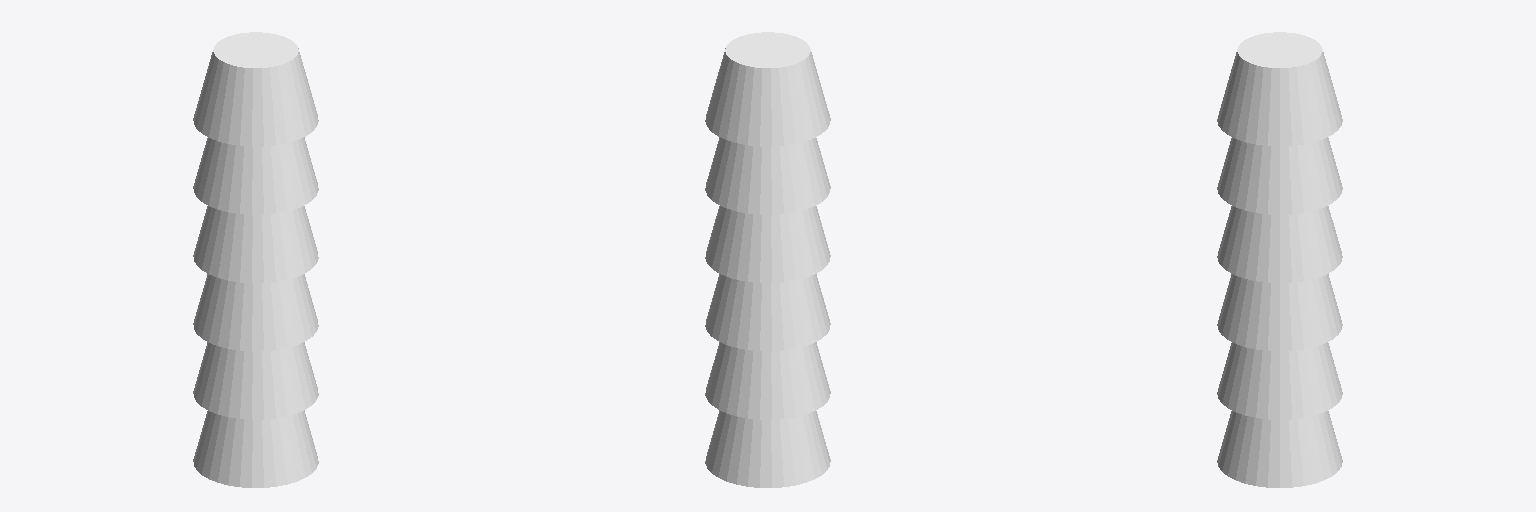
File: stackedlamp.obj
The picture shows the model from 3 angles: view 1: azimuth 30°, elevation 25°; view 2: azimuth 150°, elevation 25°; view 3: azimuth 270°, elevation 25°; orthographic projection.
Visible parts, largest first — view 1: Cylinder.005_Cylinder.008, Cylinder.001_Cylinder.004, Cylinder.002_Cylinder.005, Cylinder.004_Cylinder.007, Cylinder, Cylinder.003_Cylinder.006; view 2: Cylinder.005_Cylinder.008, Cylinder.001_Cylinder.004, Cylinder.002_Cylinder.005, Cylinder.004_Cylinder.007, Cylinder, Cylinder.003_Cylinder.006; view 3: Cylinder.005_Cylinder.008, Cylinder.001_Cylinder.004, Cylinder.004_Cylinder.007, Cylinder.002_Cylinder.005, Cylinder.003_Cylinder.006, Cylinder.
Part boxes in pixels (x1,y1,x2,y2): Cylinder.005_Cylinder.008: (193,32,318,146); Cylinder.001_Cylinder.004: (193,342,318,419); Cylinder.002_Cylinder.005: (193,274,318,351); Cylinder.004_Cylinder.007: (193,137,318,214); Cylinder: (193,410,318,487); Cylinder.003_Cylinder.006: (193,206,318,282); Cylinder.005_Cylinder.008: (705,32,830,146); Cylinder.001_Cylinder.004: (705,342,830,419); Cylinder.002_Cylinder.005: (705,274,830,351); Cylinder.004_Cylinder.007: (705,137,830,214); Cylinder: (705,410,830,487); Cylinder.003_Cylinder.006: (705,206,830,282); Cylinder.005_Cylinder.008: (1217,32,1342,146); Cylinder.001_Cylinder.004: (1217,342,1342,419); Cylinder.004_Cylinder.007: (1217,137,1342,214); Cylinder.002_Cylinder.005: (1217,274,1342,351); Cylinder.003_Cylinder.006: (1217,206,1342,282); Cylinder: (1217,411,1342,487).
Bounding box in the file's own units: 2 × 7.23 × 2.